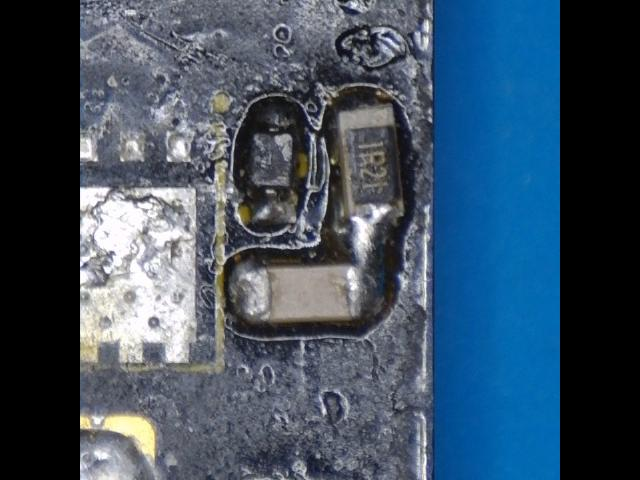Incorrect_installation: (330, 98, 406, 239)
Short_circuit: (332, 206, 399, 322)
